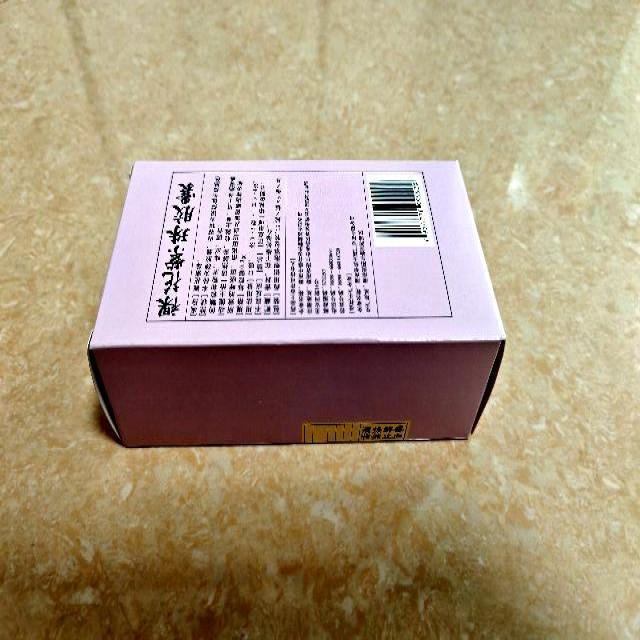box: (89, 159, 508, 446)
